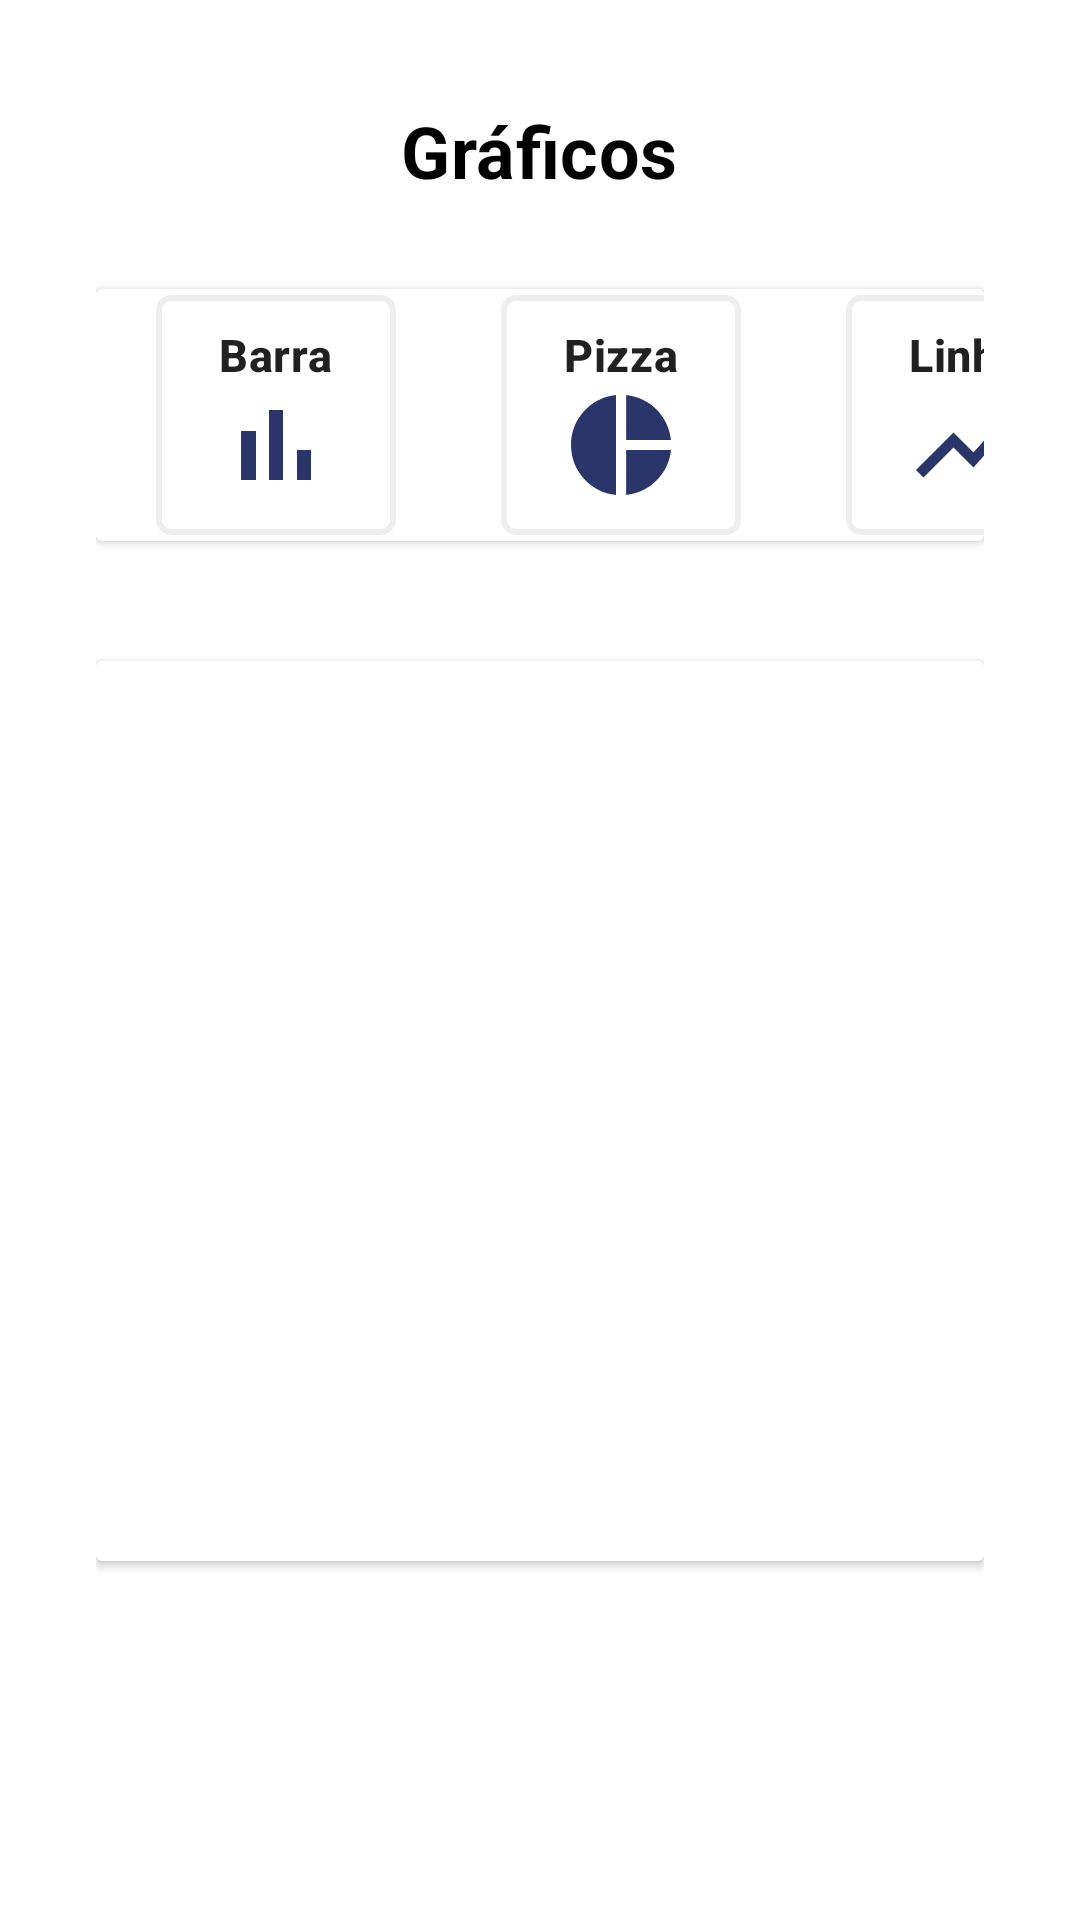

Point at icon controls on the screen. Image size 1080x1920, points as (x=x, y=y).
bar chart: (x=276, y=445)
pie chart: (x=621, y=445)
